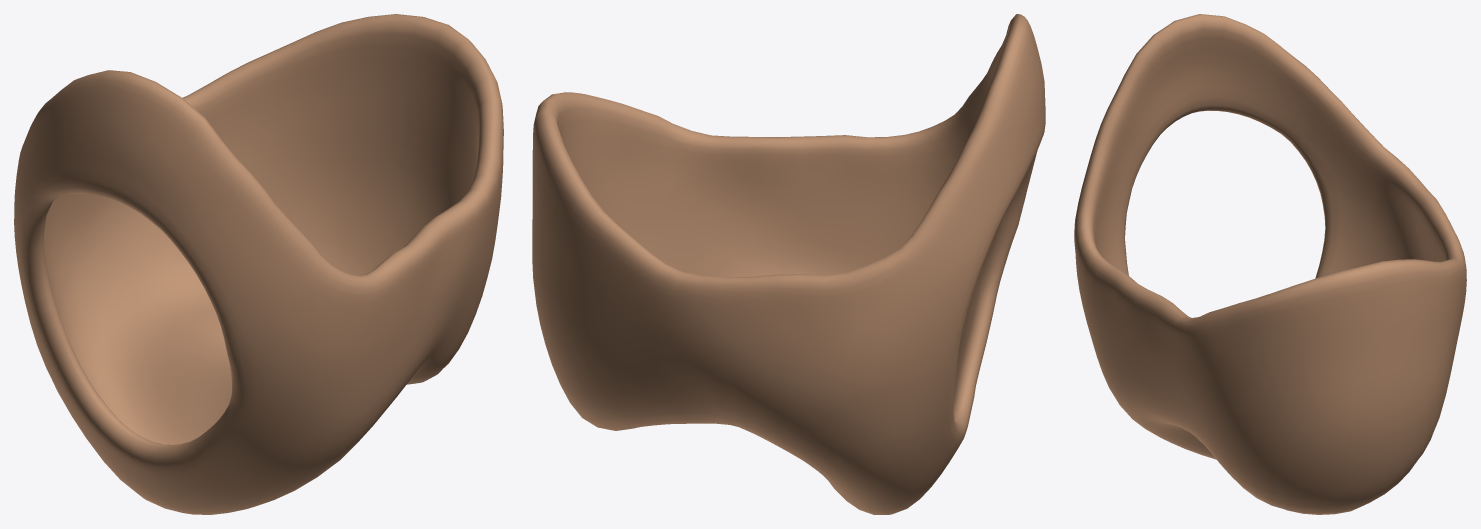
Rendered from TL4_Frame_Classic.001 3.glb.
3 views of the same model, side by side, from view 1: azimuth 30°, elevation 25°; view 2: azimuth 150°, elevation 25°; view 3: azimuth 270°, elevation 25° (orthographic). The views are drawn at different scales.
Parts seen in each view (by area): view 1: TL4_Frame_Classic.001; view 2: TL4_Frame_Classic.001; view 3: TL4_Frame_Classic.001.
Boxes of the visible parts, x1,y1,x2,y2 form: TL4_Frame_Classic.001: (14, 14, 503, 514); TL4_Frame_Classic.001: (532, 14, 1045, 514); TL4_Frame_Classic.001: (1074, 14, 1466, 514).
Size of the model in its own units: 0.8852 by 0.9067 by 0.7881.
